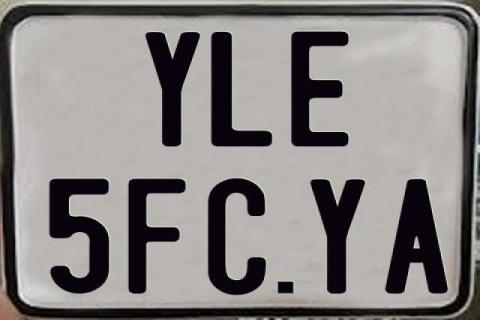0: (49, 178, 110, 298)
A: (383, 177, 449, 293)
C: (206, 178, 270, 298)
E: (289, 29, 353, 149)
F: (126, 177, 188, 295)
L: (209, 30, 274, 150)
Y: (308, 177, 366, 297), (144, 30, 199, 144)
